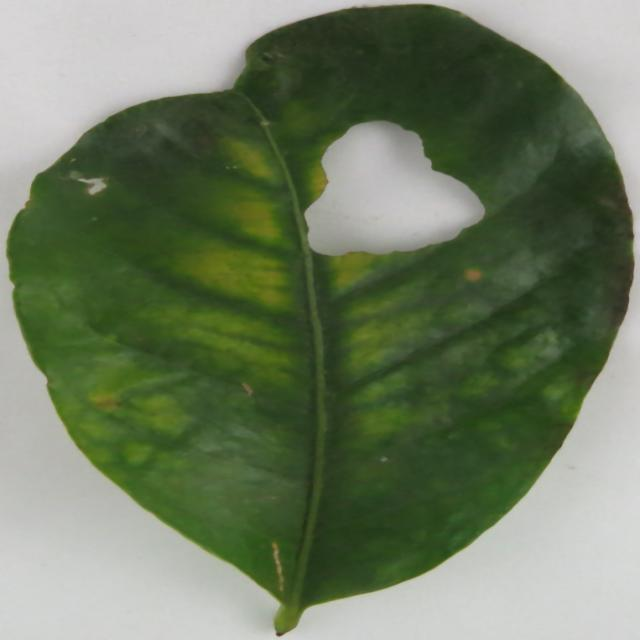DeficienciaNutricional-Boro: (8, 5, 631, 634)
